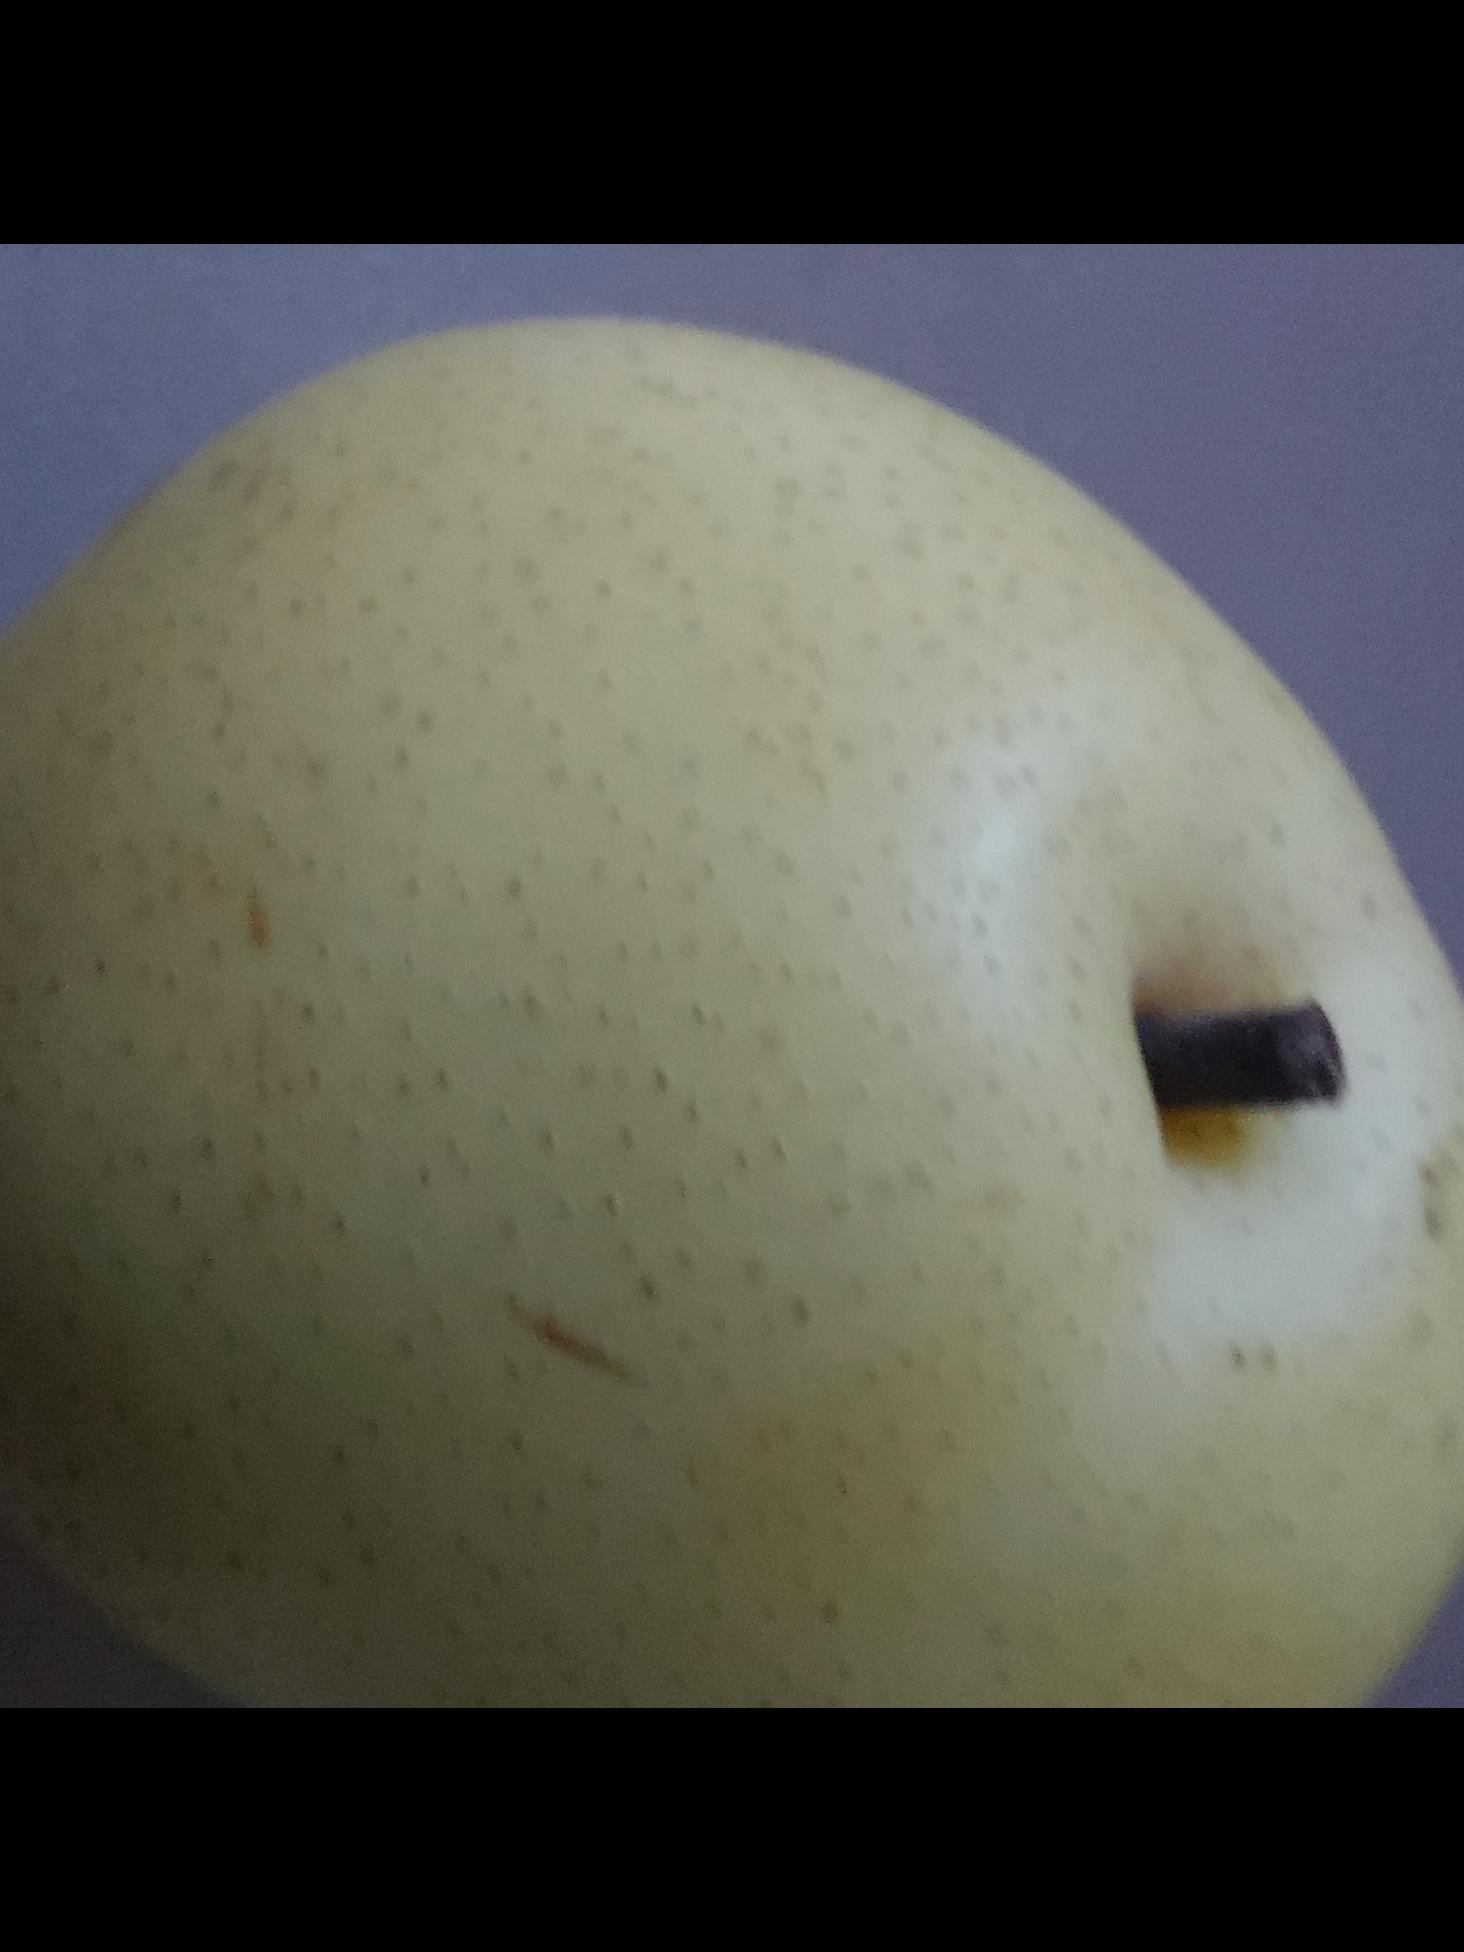Good Pear: (0, 300, 1464, 1708)
